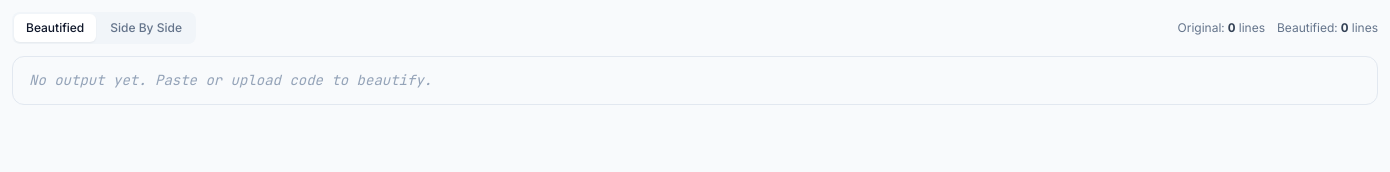
Test case: DiffView › shows placeholder for empty content in side-by-side view
Click the button "Side by side": (146, 28) x1=98 y1=14 x2=194 y2=42
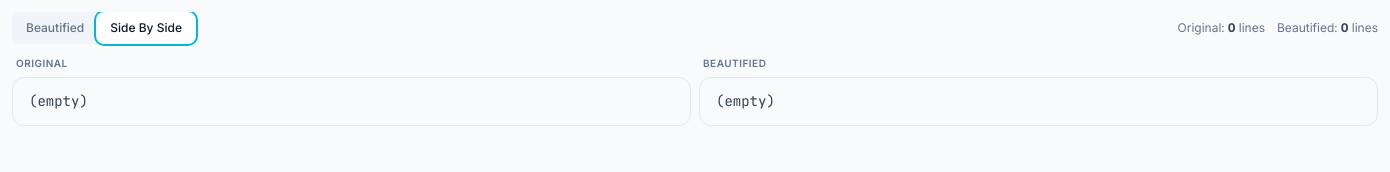
Now the text "(empty)" is shown 2 times, box x1=12 y1=77 x2=691 y2=126; x1=699 y1=77 x2=1378 y2=126
